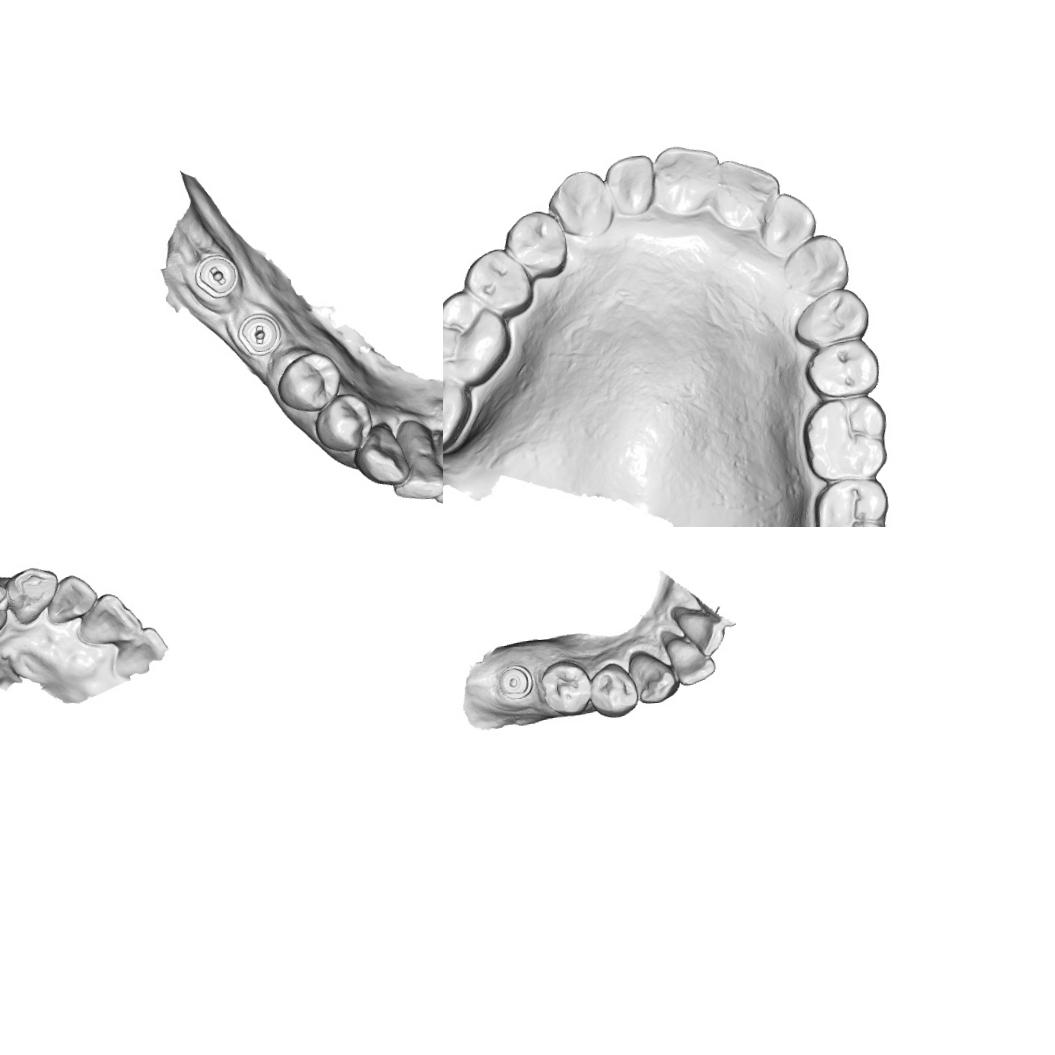canine: (546, 167, 617, 238), (780, 229, 850, 299), (352, 420, 410, 488), (4, 562, 64, 626), (625, 644, 676, 706)
implant: (494, 660, 535, 702)
implant_minus: (194, 253, 240, 296), (236, 312, 279, 353)
incisor: (708, 150, 780, 226), (385, 413, 443, 501), (652, 142, 720, 212), (72, 587, 146, 648), (762, 188, 819, 254), (108, 621, 171, 678), (42, 570, 101, 628), (672, 604, 731, 662), (662, 631, 720, 689), (604, 150, 655, 215), (428, 427, 443, 504)
molar: (800, 394, 892, 484), (443, 285, 514, 392), (805, 473, 890, 527), (443, 356, 480, 454)
premolar: (452, 244, 532, 317), (499, 204, 570, 282), (790, 284, 870, 352), (807, 339, 879, 401), (278, 350, 341, 412), (536, 655, 593, 718), (585, 658, 641, 722), (316, 393, 374, 450)
